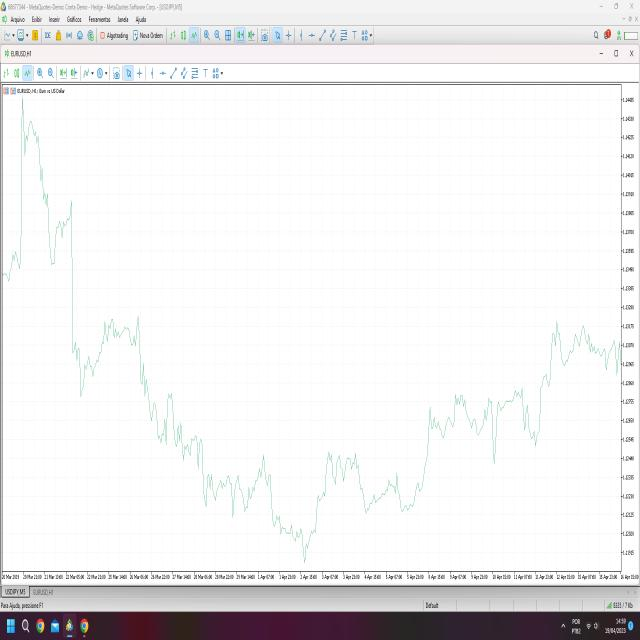bandeira_baixa: (64, 188, 133, 399)
